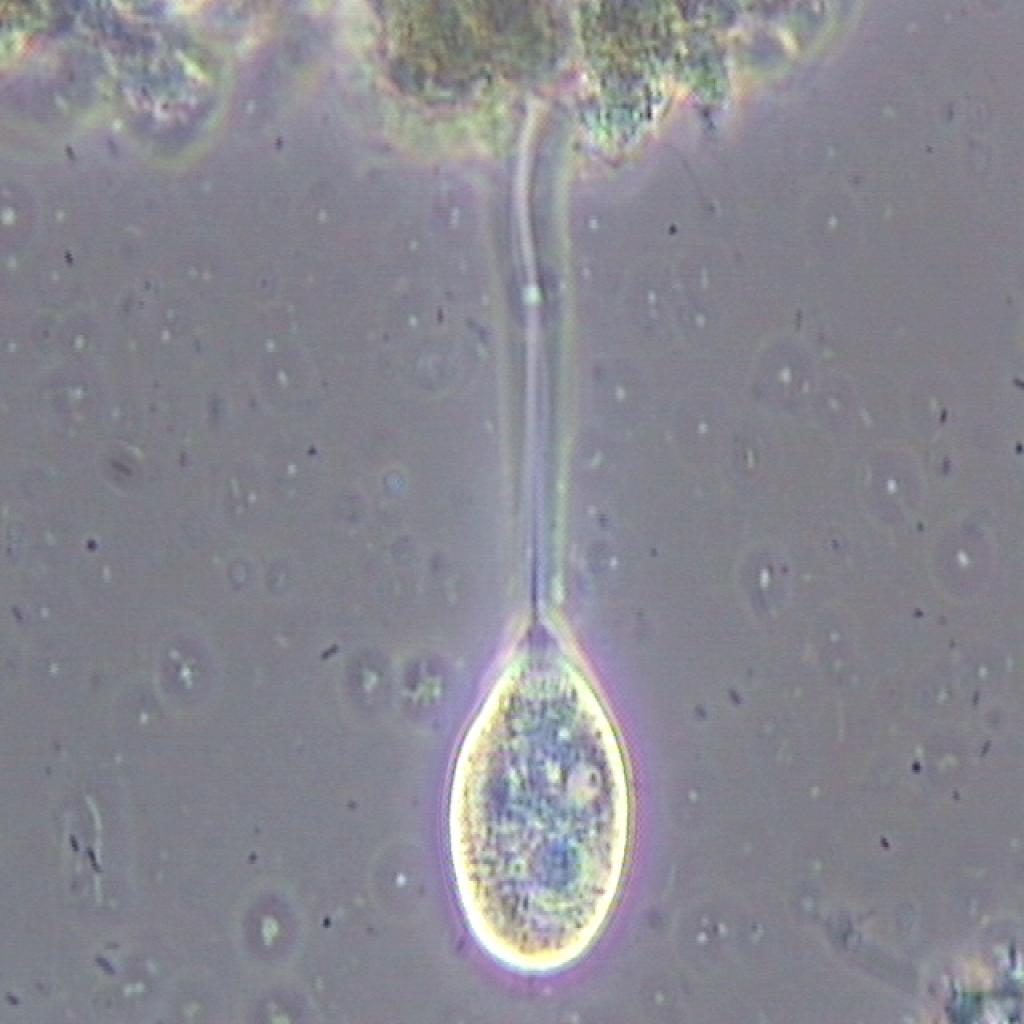Vorticella: (434, 164, 642, 994)
